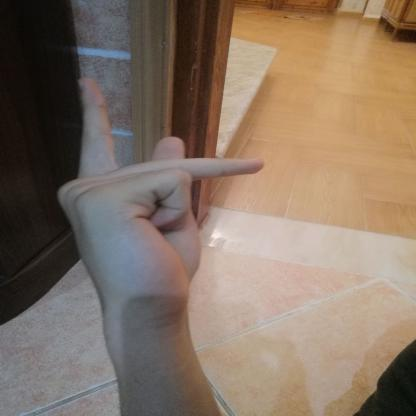DHAA: (35, 69, 278, 334)
